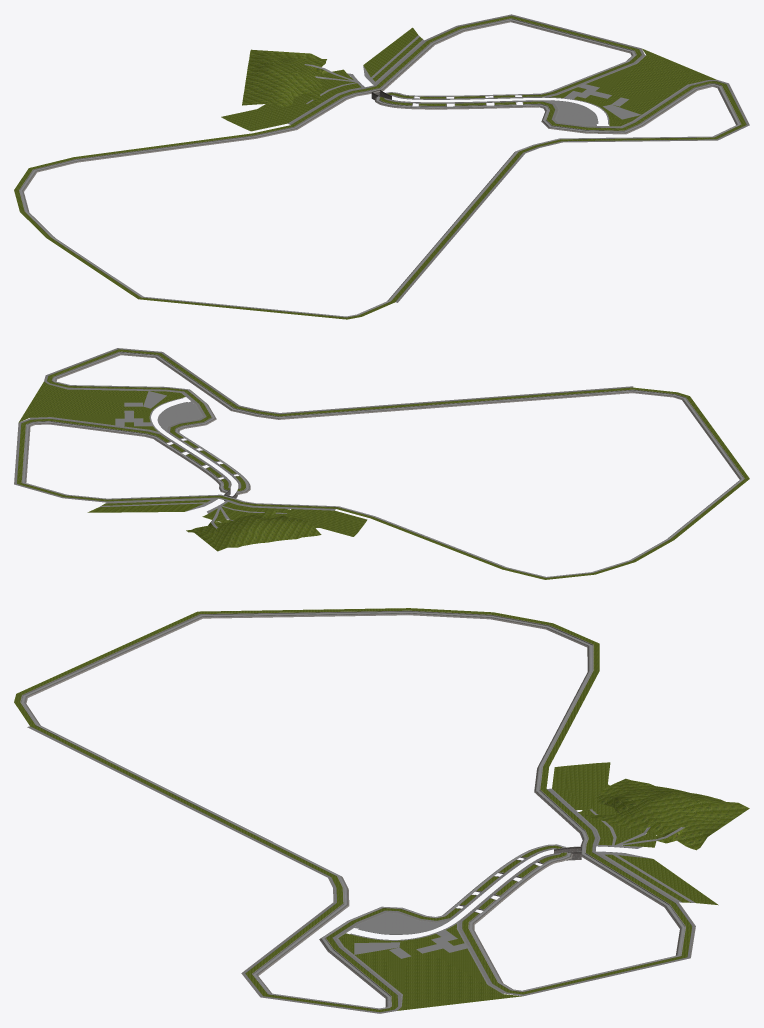
Rendered from lake_bg.FBX.
The picture shows the model from 3 angles, top to bottom: view 1: azimuth 30°, elevation 25°; view 2: azimuth 150°, elevation 25°; view 3: azimuth 270°, elevation 25°; orthographic projection. The views are drawn at different scales.
Visible parts, largest first — view 1: bg09_01, bg08_06, ba10_02, bg10_02, bg10_01; view 2: bg09_01, bg08_06, ba10_02, bg10_02, bg10_01; view 3: bg09_01, bg08_06, ba10_02, bg10_02, bg10_01.
Boxes of the visible parts, left/top/right/bottom form: bg09_01: left=14, top=16, right=746, bottom=319; bg08_06: left=19, top=14, right=749, bottom=317; ba10_02: left=19, top=18, right=741, bottom=317; bg10_02: left=548, top=83, right=641, bottom=125; bg10_01: left=288, top=35, right=423, bottom=123; bg09_01: left=17, top=349, right=749, bottom=579; bg08_06: left=14, top=348, right=743, bottom=577; ba10_02: left=21, top=351, right=744, bottom=577; bg10_02: left=115, top=391, right=201, bottom=430; bg10_01: left=99, top=498, right=334, bottom=528; bg09_01: left=14, top=608, right=749, bottom=1012; bg08_06: left=21, top=611, right=695, bottom=1013; ba10_02: left=20, top=610, right=685, bottom=1009; bg10_02: left=354, top=913, right=469, bottom=958; bg10_01: left=550, top=788, right=695, bottom=902.
Size of the model in its own units: 1577 by 41.17 by 1208.
